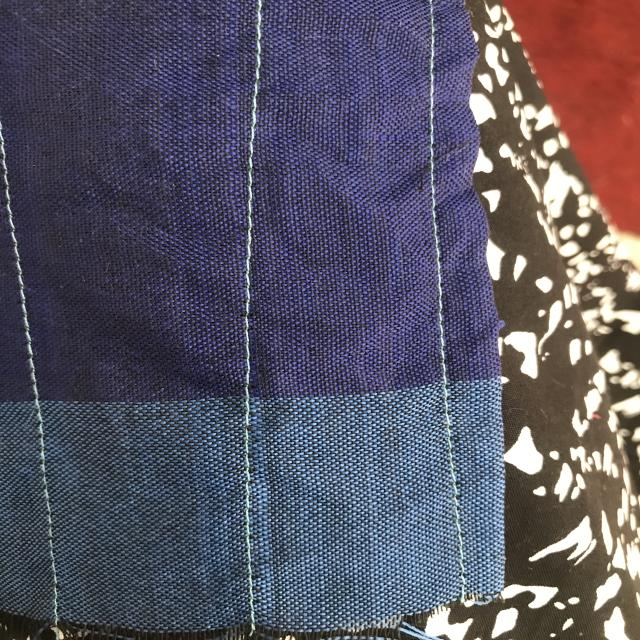good: (231, 133, 275, 350), (23, 426, 71, 574)
